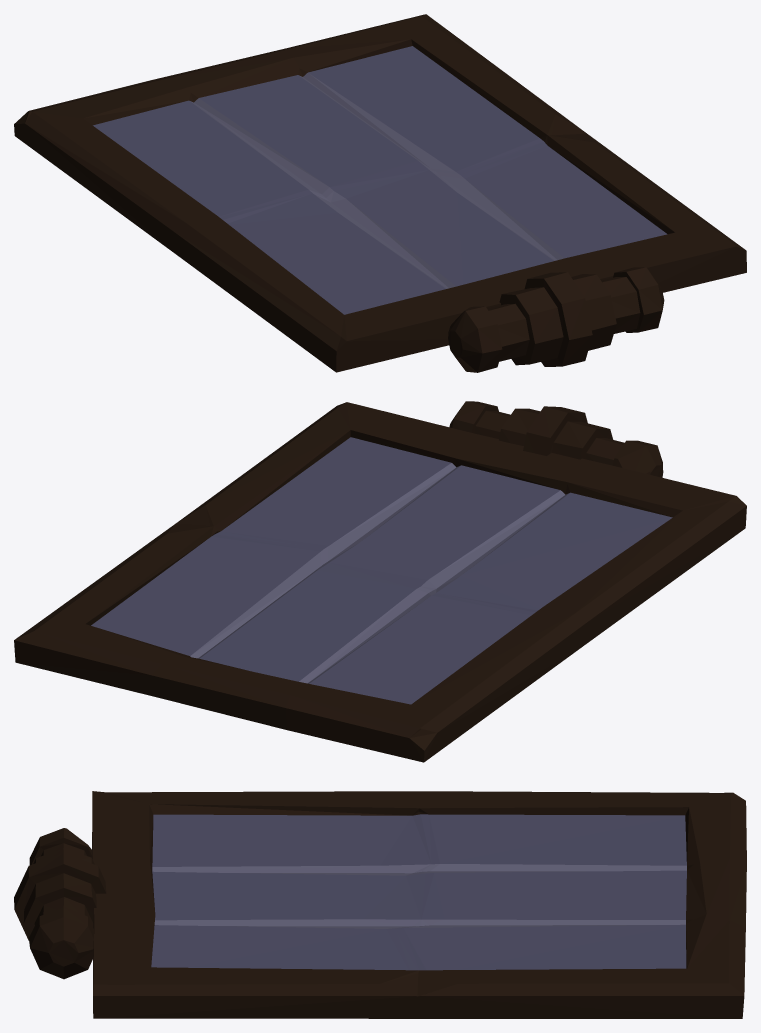
The model's file is SFFA_ModularTable_Door.fbx.
3 views of the same model, one above another, from view 1: azimuth 30°, elevation 25°; view 2: azimuth 150°, elevation 25°; view 3: azimuth 270°, elevation 25° (orthographic).
Parts seen in each view (by area): view 1: AWS_Reception_Desk_Door_002.001; view 2: AWS_Reception_Desk_Door_002.001; view 3: AWS_Reception_Desk_Door_002.001.
Boxes of the visible parts, left/top/right/bottom form: AWS_Reception_Desk_Door_002.001: left=14, top=14, right=746, bottom=372; AWS_Reception_Desk_Door_002.001: left=14, top=401, right=746, bottom=762; AWS_Reception_Desk_Door_002.001: left=14, top=791, right=746, bottom=1018.
Bounding box in the file's own units: 53.12 × 10.97 × 80.77.
